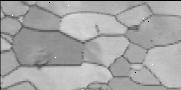good_void: (28, 55, 49, 70), (94, 22, 100, 33), (148, 39, 153, 42)
